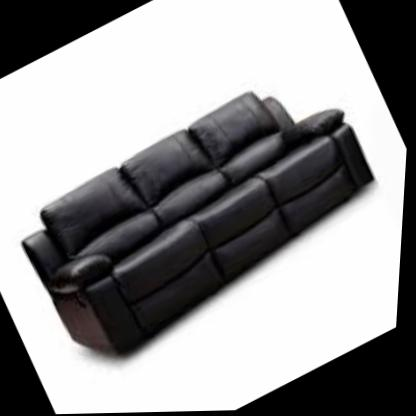Sofa: (0, 18, 415, 406)
